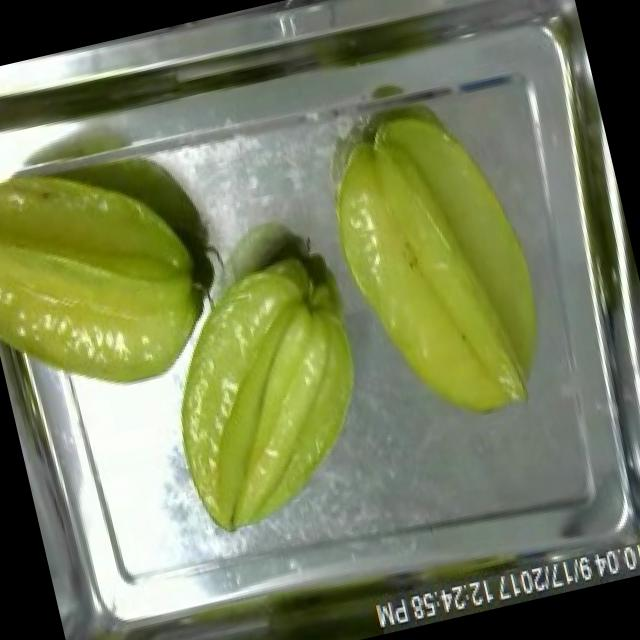fruit: (297, 78, 578, 456), (134, 231, 402, 545), (0, 122, 231, 414)
